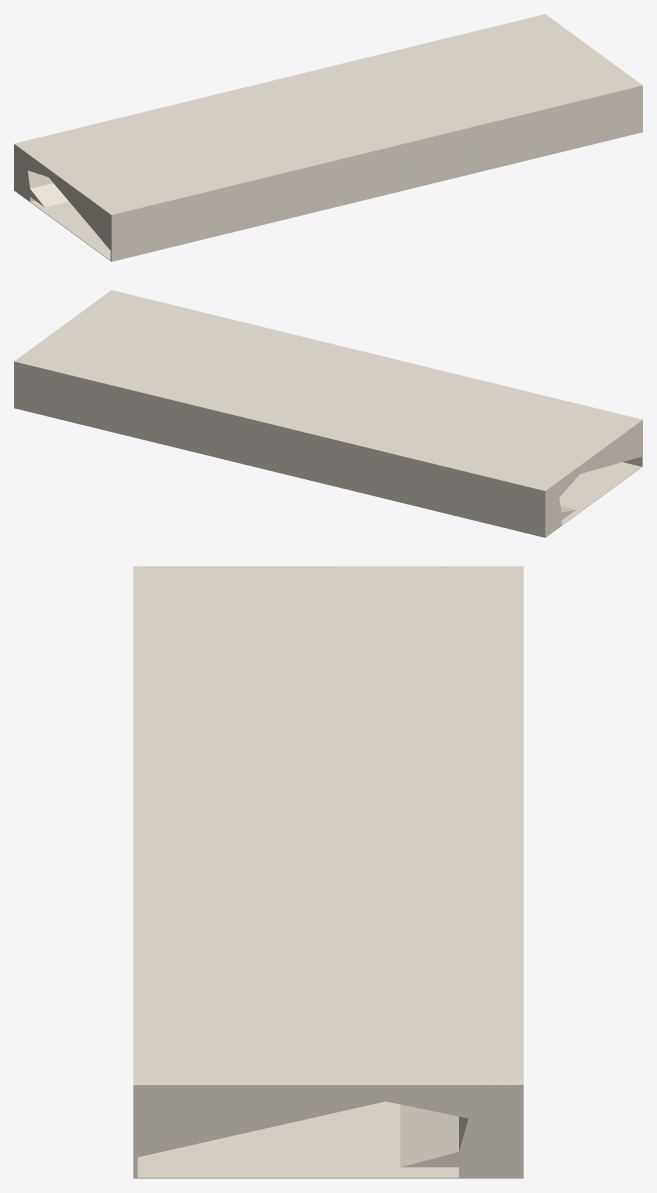
Rendered from environment.dae.
The picture shows the model from 3 angles, top to bottom: view 1: azimuth 30°, elevation 25°; view 2: azimuth 150°, elevation 25°; view 3: azimuth 270°, elevation 25°; orthographic projection. The views are drawn at different scales.
Visible parts, largest first — view 1: group_1; view 2: group_1; view 3: group_1.
Part boxes in pixels (x1,y1,x2,y2): group_1: [14, 14, 642, 261]; group_1: [14, 290, 642, 537]; group_1: [133, 566, 523, 1178].
Size of the model in its own units: 9081 by 2888 by 764.
